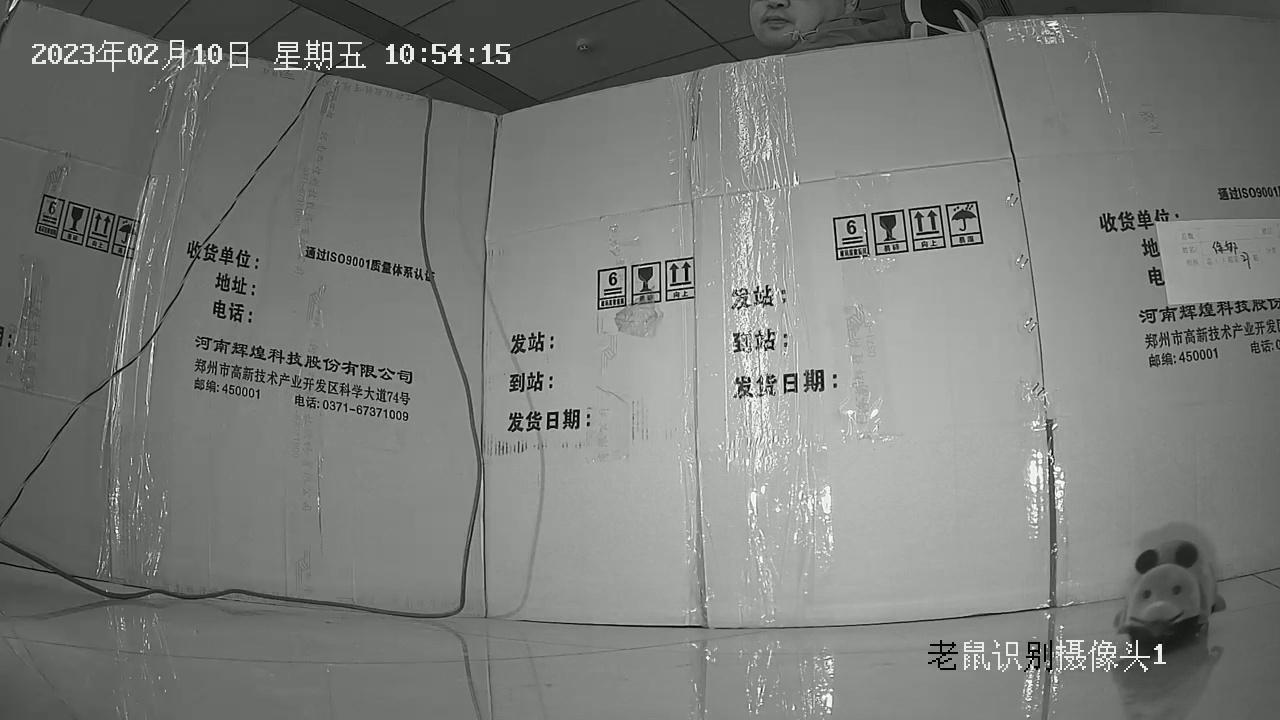mouse: (1123, 540, 1227, 646)
